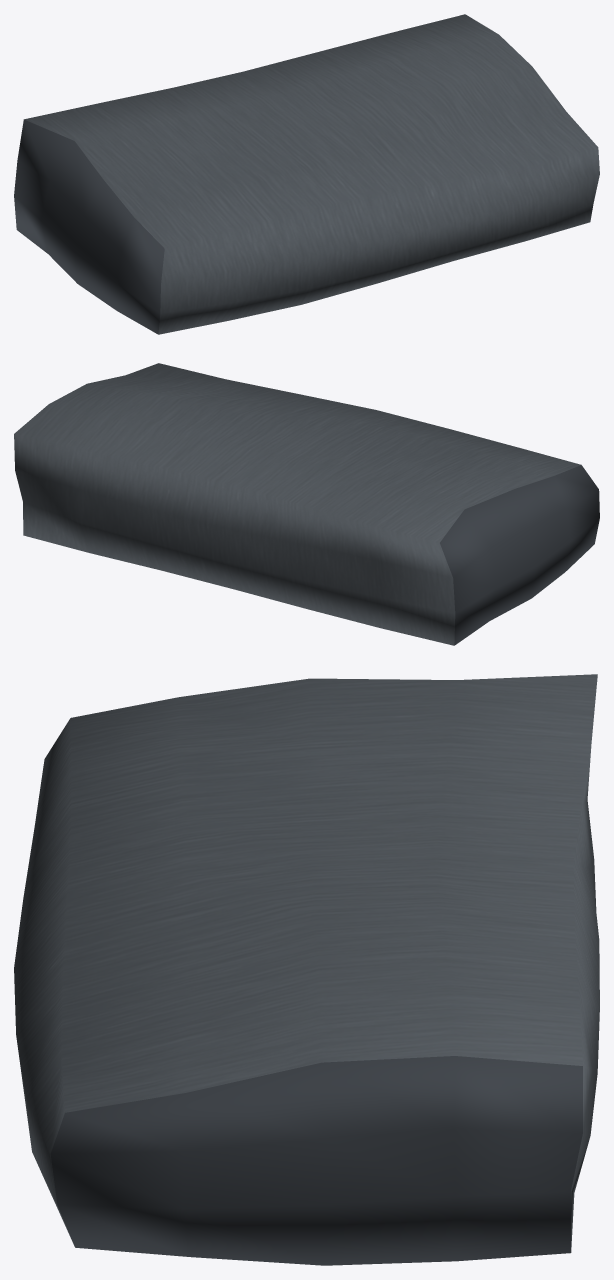
File: Potassium.fbx
3 views of the same model, one above another, from view 1: azimuth 30°, elevation 25°; view 2: azimuth 150°, elevation 25°; view 3: azimuth 270°, elevation 25° (orthographic). The views are drawn at different scales.
Visible parts, largest first — view 1: Potasium; view 2: Potasium; view 3: Potasium.
Part boxes in pixels (<box>): Potasium: <box>14,14,599,334</box>; Potasium: <box>14,363,599,645</box>; Potasium: <box>14,674,599,1265</box>.
Bounding box in the file's own units: 376 × 92.75 × 221.
